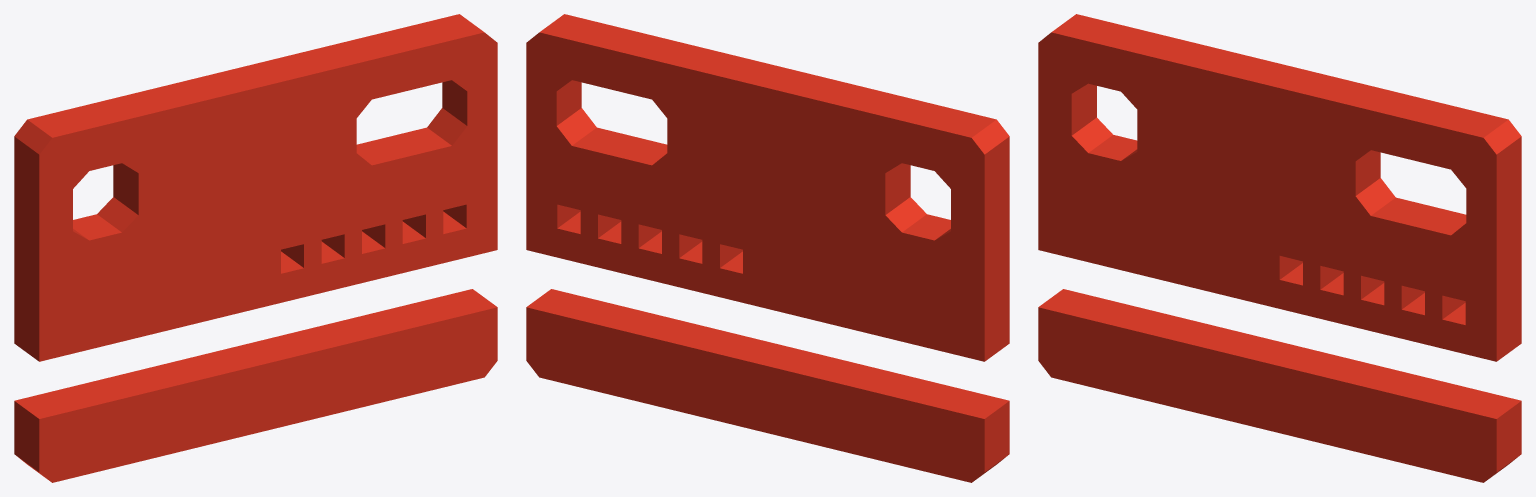
File: Icon_Card.fbx
3 views of the same model, side by side, from view 1: azimuth 30°, elevation 25°; view 2: azimuth 150°, elevation 25°; view 3: azimuth 330°, elevation 25° (orthographic).
Parts seen in each view (by area): view 1: Icon_Card; view 2: Icon_Card; view 3: Icon_Card.
Part boxes in pixels (<box>): Icon_Card: <box>14,14,497,482</box>; Icon_Card: <box>526,14,1009,482</box>; Icon_Card: <box>1038,14,1521,482</box>.
Size of the model in its own units: 82.87 by 59.63 by 7.86.
